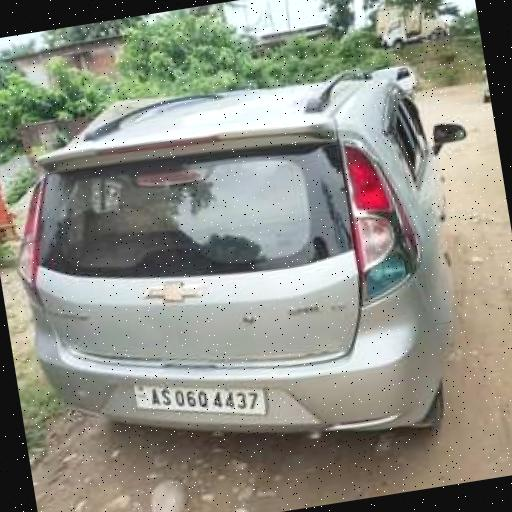license_plate`: (132, 366, 264, 432)
